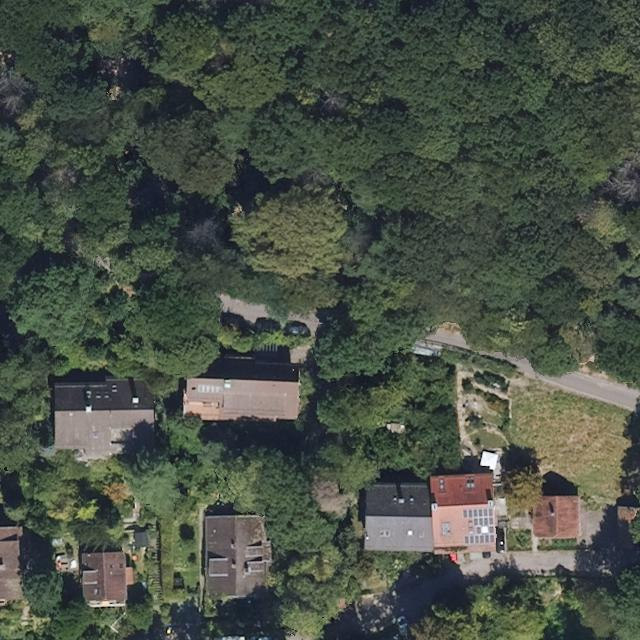PV: (463, 509, 495, 545), (197, 384, 224, 393)
